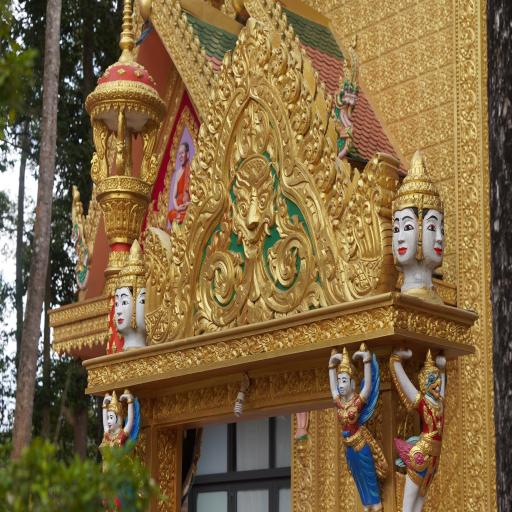hoa: (174, 6, 188, 40), (180, 17, 193, 53), (201, 53, 213, 91), (188, 32, 200, 65), (167, 0, 181, 28), (277, 6, 286, 42), (282, 21, 292, 52), (195, 43, 204, 72), (272, 0, 281, 29), (290, 30, 299, 57), (164, 0, 174, 20), (264, 0, 274, 17)
ran: (328, 36, 372, 164), (64, 180, 90, 284)
than: (320, 335, 402, 512), (378, 332, 450, 512), (384, 148, 450, 301), (93, 377, 148, 500), (109, 223, 151, 346), (166, 140, 202, 227)
